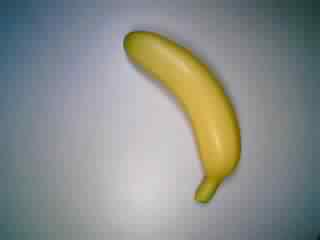banana: (118, 23, 247, 206)
